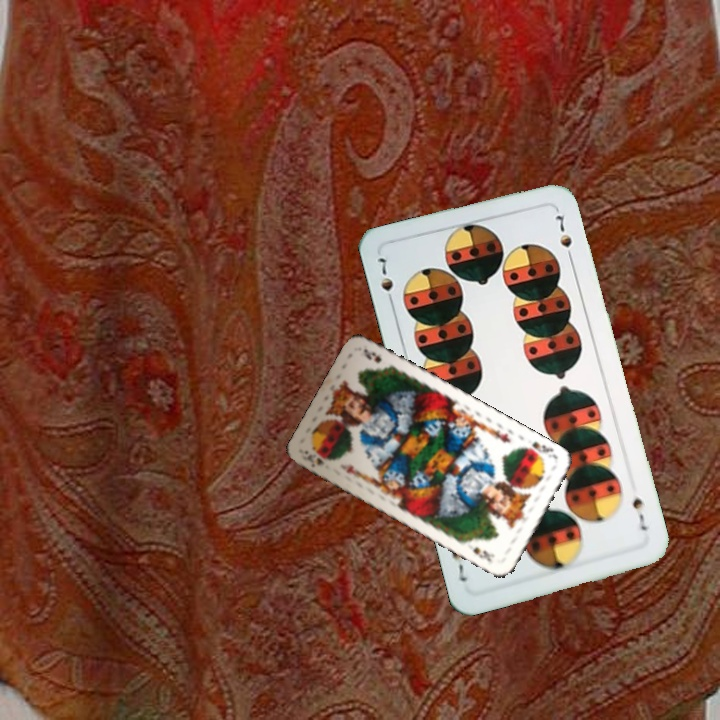S7: (373, 253, 397, 310), (628, 494, 650, 534)
SK: (519, 438, 560, 461), (298, 446, 327, 470)
